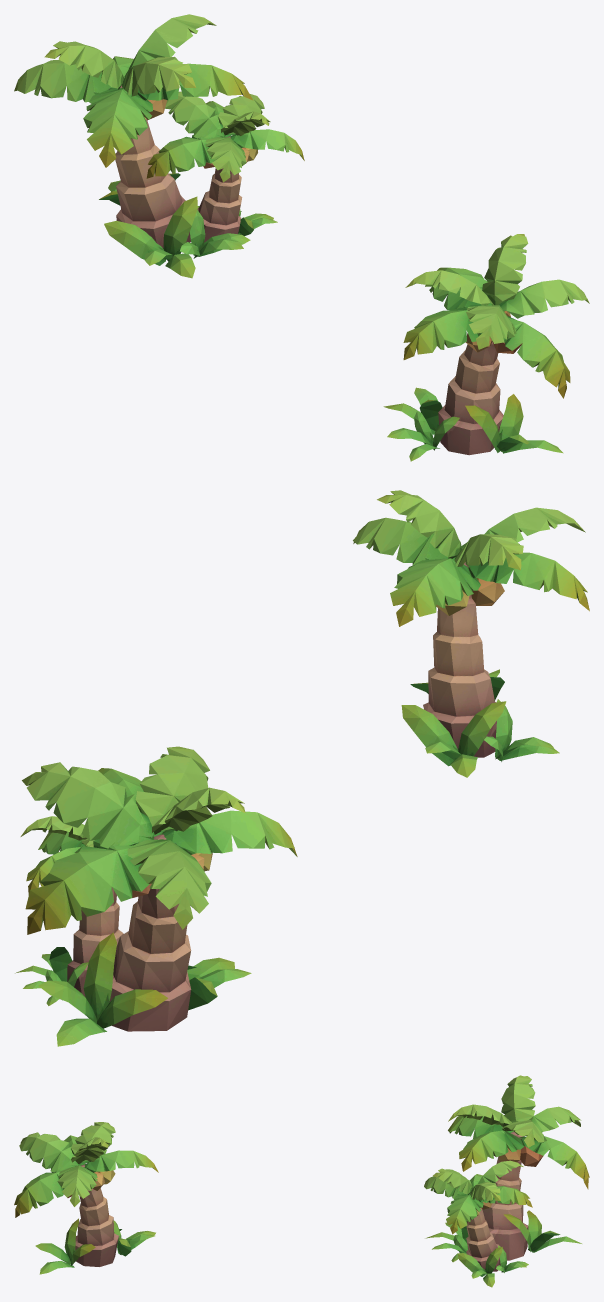
Rendered from Props.fbx.
3 views of the same model, one above another, from view 1: azimuth 30°, elevation 25°; view 2: azimuth 150°, elevation 25°; view 3: azimuth 270°, elevation 25° (orthographic). The views are drawn at different scales.
Visible parts, largest first — view 1: yezishu01, yezishu02; view 2: yezishu01, yezishu02; view 3: yezishu01, yezishu02.
Boxes of the visible parts, x1,y1,x2,y2 form: yezishu01: [14, 14, 304, 278]; yezishu02: [383, 234, 589, 461]; yezishu01: [15, 746, 297, 1046]; yezishu02: [353, 490, 589, 777]; yezishu01: [424, 1075, 589, 1287]; yezishu02: [14, 1122, 158, 1274].
Bounding box in the file's own units: 9.42 × 8.33 × 28.75.
